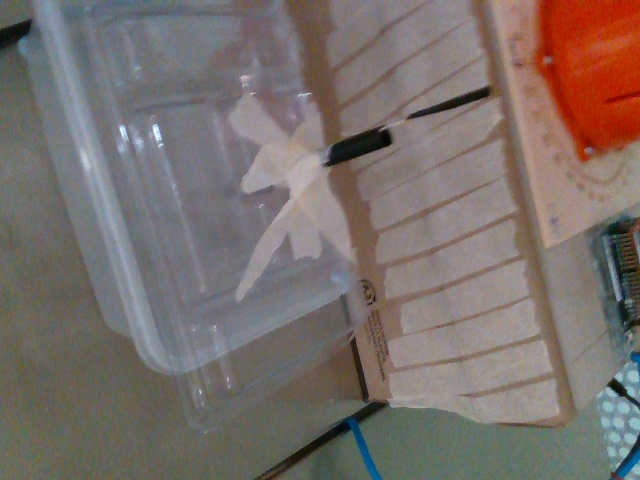test_strip: (375, 85, 490, 128)
